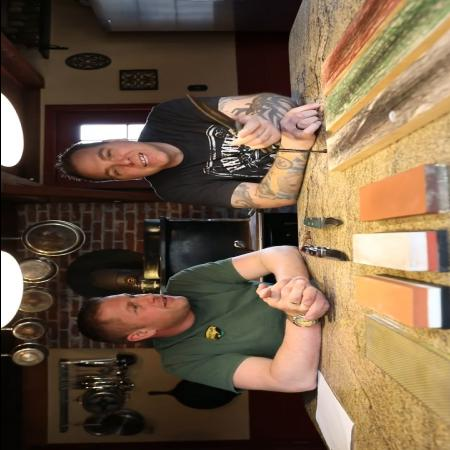long weapon: (176, 87, 268, 151)
